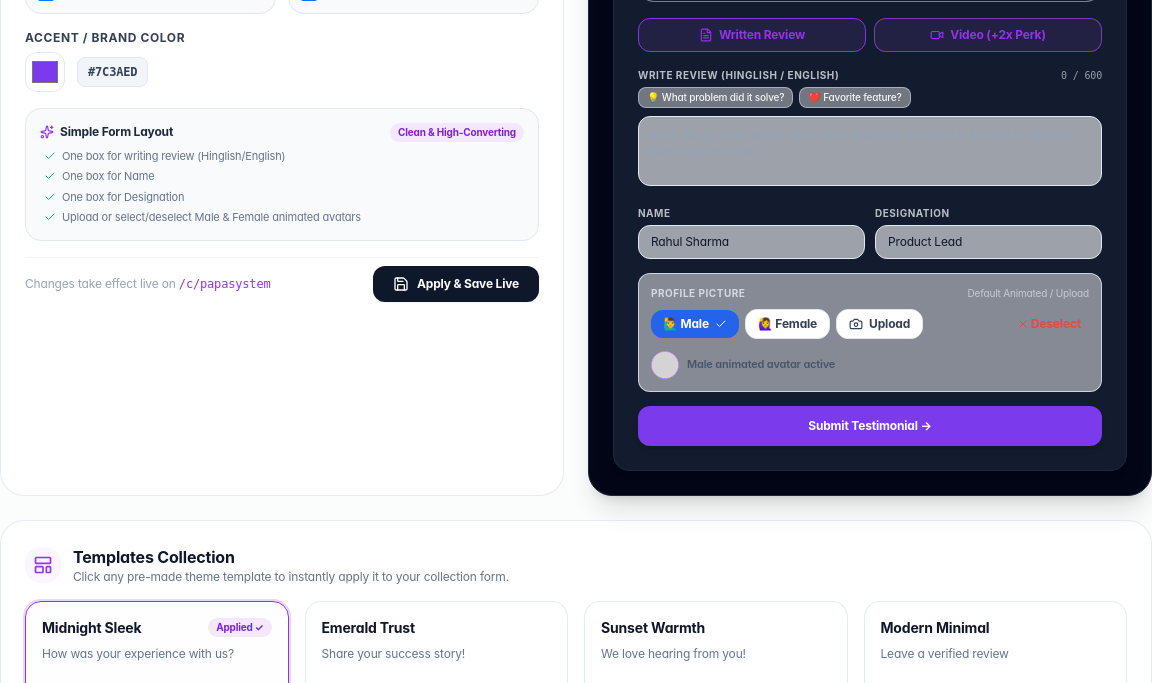
Test: CollectionFormBuilder Component Suite › 6. Renders the simple collection form inputs: Review (Hinglish/English), Name, Designation, and animated avatar selection options
This screenshot has width=1152, height=683.
(page scrolled)
Expected: the text box with test id "preview-review-input" is shown, [638,116,1102,186]
Expected: the field with test id "preview-name-input" is shown, [638,224,865,258]
Note: Toggling female avatar
Click the button with test id "preview-avatar-female-btn": (788, 324) [745,308,830,338]
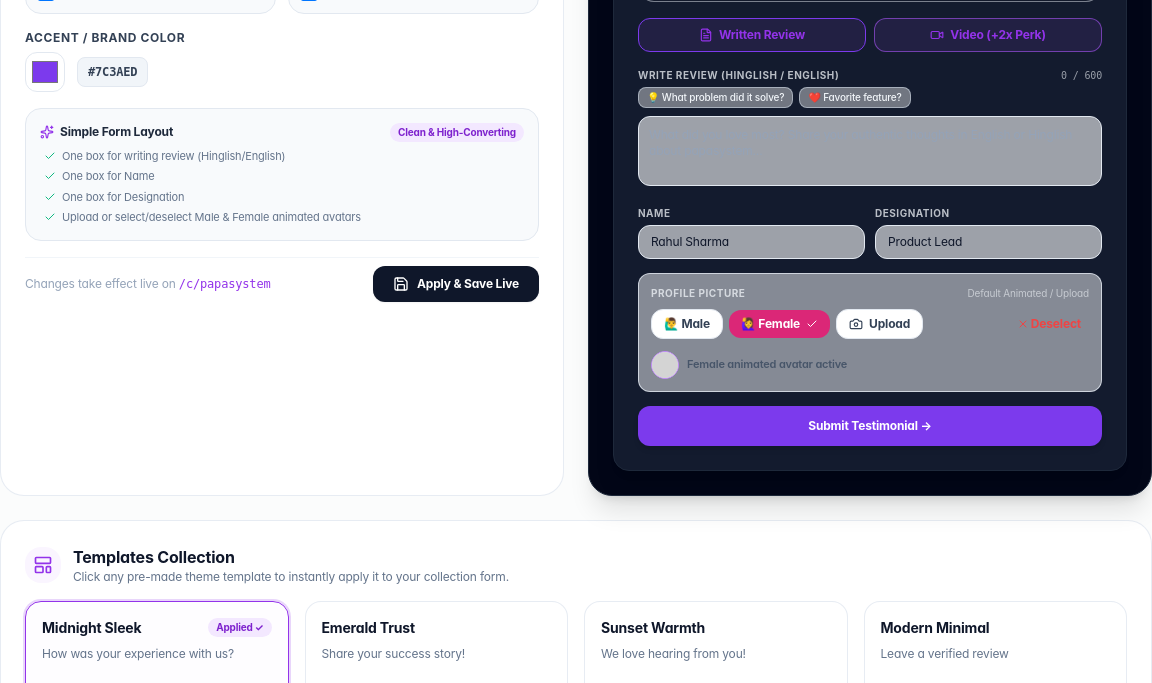
Click the button with test id "preview-avatar-deselect-btn": (1049, 324) [1009,312,1089,336]
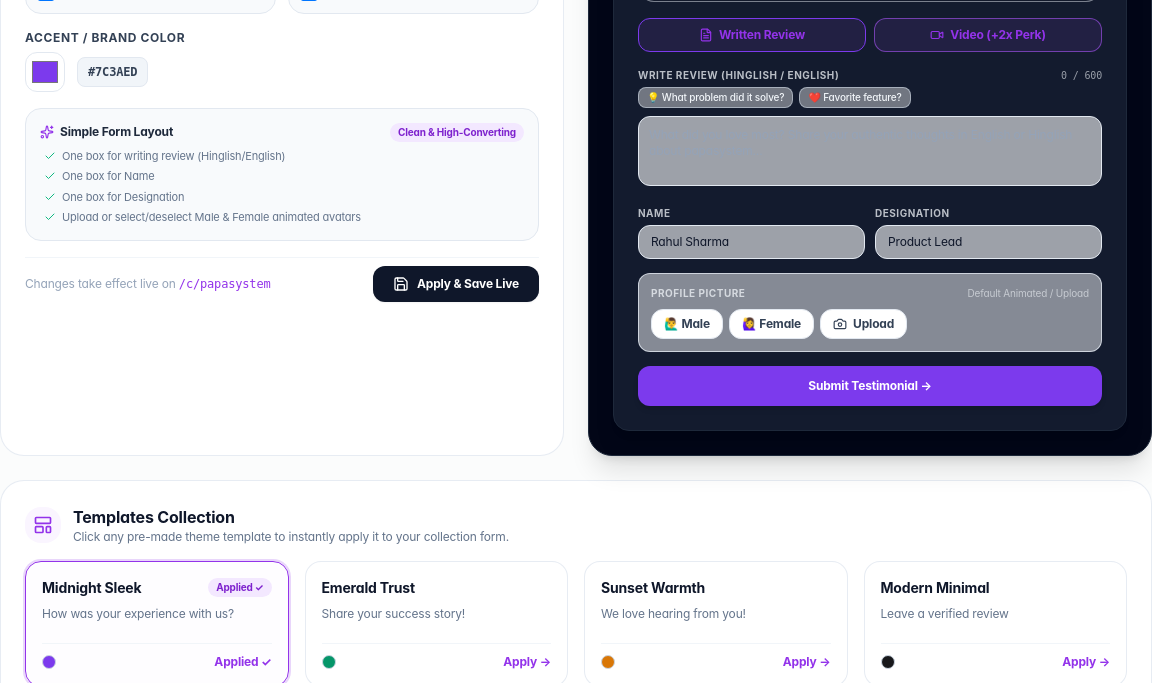
Expected: the button with test id "preview-avatar-deselect-btn" is gone
